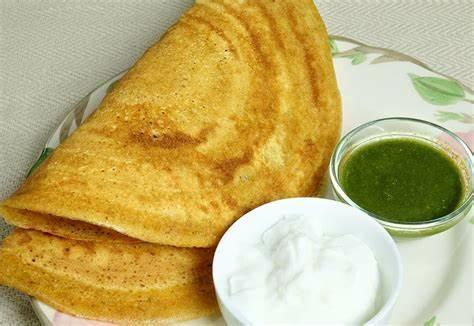Dosa: (2, 0, 342, 248), (1, 227, 220, 323)
GreenChutney: (339, 136, 464, 224)
